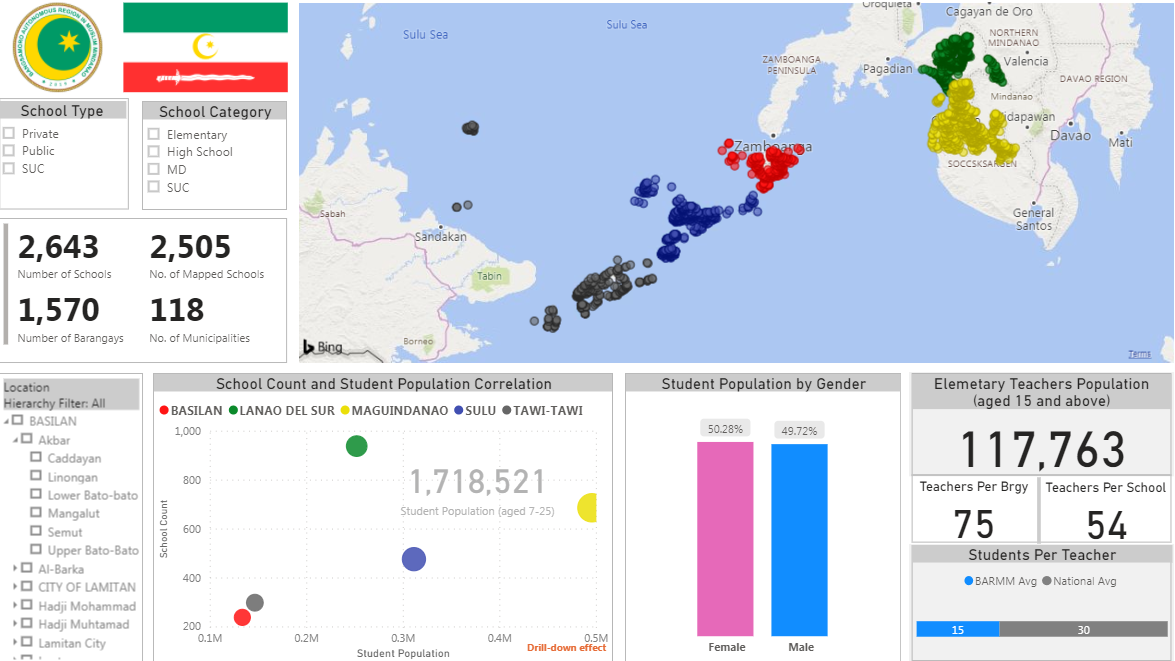

The dashboard page shown, as its layout file describes it:
{"tool":"powerbi","page":{"name":"Development Challenge (Education)","canvas":[1280,720],"ordinal":0},"visuals":[{"type":"textbox","box":[565.7,687,100.8,32.5],"z":0},{"type":"basicShape","box":[986.2,591,287.1,128.2],"z":1000},{"type":"basicShape","box":[986.2,404.7,287.1,112.8],"z":2000},{"type":"basicShape","box":[986.2,515.8,287.1,75.2],"z":3000},{"type":"basicShape","box":[0,107.4,143.2,122.5],"z":4000},{"type":"card","fields":{"Values":["Sum(population.Students Total)"]},"box":[394.8,471.7,247.8,111.1],"z":5000},{"type":"map","fields":{"Y":["SchoolsARMMDEPED2017.LAT"],"X":["SchoolsARMMDEPED2017.Long"],"Series":["SchoolsARMMDEPED2017.Prov"]},"box":[320.8,0,958.2,400],"z":6000},{"type":"slicer","title":"School Category","fields":{"Values":["SchoolsARMMDEPED2017.Sch Cat (group)"]},"box":[155.6,111.5,156.9,118.4],"z":7000},{"type":"slicer","title":"School Type","fields":{"Values":["SchoolsARMMDEPED2017.Sch Type (group)"]},"box":[0,111.5,139,70.2],"z":8000},{"type":"multiRowCard","fields":{"Values":["SchoolsARMMDEPED2017.Count School","SchoolsARMMDEPED2017.Count Mapped School","SchoolsARMMDEPED2017.Count Brgy","SchoolsARMMDEPED2017.Count Muni"]},"box":[0,238.2,312.5,156.9],"z":9000},{"type":"scatterChart","title":"School Count and Student Population Correlation","fields":{"Category":["population.PROV","SchoolsARMMDEPED2017.Munname","SchoolsARMMDEPED2017.Barangay"],"X":["Sum(population.Students Total)"],"Y":["Count(SchoolsARMMDEPED2017.Sch Id)"],"Size":["Sum(population.Students Total)"],"Series":["SchoolsARMMDEPED2017.Prov"]},"box":[168,406.1,498.4,313.9],"z":10000},{"type":"image","box":[128,0,192.7,107.4],"z":11000},{"type":"image","box":[0,0,128,107.4],"z":12000},{"type":"card","title":"Elemetary Teachers Population (aged 15 and above)","fields":{"Values":["occupation.Elementary Teachers"]},"box":[989.7,407.5,281,111.5],"z":13000},{"type":"slicer","title":"School Type","fields":{"Values":["SchoolsARMMDEPED2017.Sch Type (group)"]},"box":[0,169.3,148.7,41.3],"z":14000},{"type":"HierarchySlicer1458836712039","fields":{"Fields":["SchoolsARMMDEPED2017.Prov","SchoolsARMMDEPED2017.Munname","SchoolsARMMDEPED2017.Barangay"]},"box":[0,406.1,156.9,313.9],"z":15000},{"type":"card","title":"Teachers Per School","fields":{"Values":["occupation.Measure"]},"box":[1119.1,521.8,159.7,71.6],"z":16000},{"type":"card","title":"Teachers Per Brgy","fields":{"Values":["occupation.Teachers Per Brgy"]},"box":[988.3,520.4,136.3,71.6],"z":17000},{"type":"barChart","title":"Students Per Teacher","fields":{"Y":["occupation.Students Per Teacher","occupation.2015 teacher-pupil ratio"]},"box":[989.7,592,282.2,128],"z":18000},{"type":"basicShape","box":[1061.3,509.4,132.2,92],"z":19000},{"type":"columnChart","title":"Student Population by Gender","fields":{"Category":["population - gender segragate.Gender"],"Y":["Sum(population - gender segragate.Value)"]},"box":[678.7,406.1,298.7,313.9],"z":20000}]}

Visuals, with their boxes in screenshot pixels (x1, y1, x2, y2), scaled from the page's 1280x720 canvas onto the 1175x661 screenshot:
textbox: box=[519, 631, 612, 660]
basicShape: box=[905, 543, 1169, 660]
basicShape: box=[905, 372, 1169, 475]
basicShape: box=[905, 474, 1169, 543]
basicShape: box=[0, 99, 131, 211]
card - Sum(population.Students Total): box=[362, 433, 590, 535]
map - SchoolsARMMDEPED2017.LAT x SchoolsARMMDEPED2017.Long: box=[294, 0, 1174, 367]
"School Category" slicer: box=[143, 102, 287, 211]
"School Type" slicer: box=[0, 102, 128, 167]
multiRowCard - SchoolsARMMDEPED2017.Count School x SchoolsARMMDEPED2017.Count Mapped School: box=[0, 219, 287, 363]
"School Count and Student Population Correlation" scatterChart: box=[154, 373, 612, 660]
image: box=[118, 0, 294, 99]
image: box=[0, 0, 118, 99]
"Elemetary Teachers Population (aged 15 and above)" card: box=[909, 374, 1166, 476]
"School Type" slicer: box=[0, 155, 137, 193]
HierarchySlicer1458836712039 - SchoolsARMMDEPED2017.Prov x SchoolsARMMDEPED2017.Munname: box=[0, 373, 144, 660]
"Teachers Per School" card: box=[1027, 479, 1174, 545]
"Teachers Per Brgy" card: box=[907, 478, 1032, 543]
"Students Per Teacher" barChart: box=[909, 543, 1168, 660]
basicShape: box=[974, 468, 1096, 552]
"Student Population by Gender" columnChart: box=[623, 373, 897, 660]
